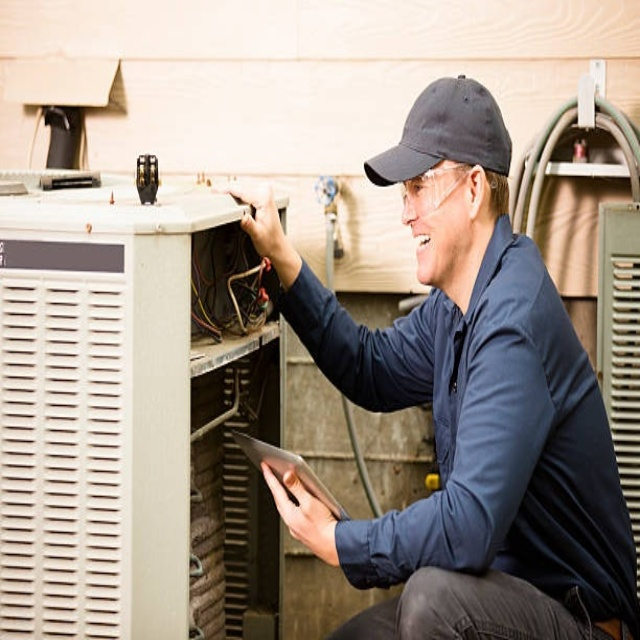Gafas: (401, 163, 474, 219)
Sin_guantes: (260, 461, 339, 560), (212, 176, 289, 270)
Sin_mascara: (411, 223, 441, 279)
